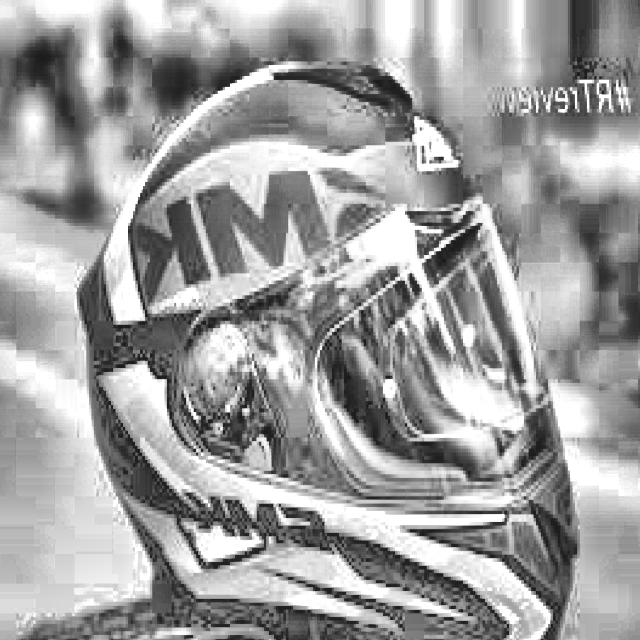Helmet: (60, 49, 587, 640)
